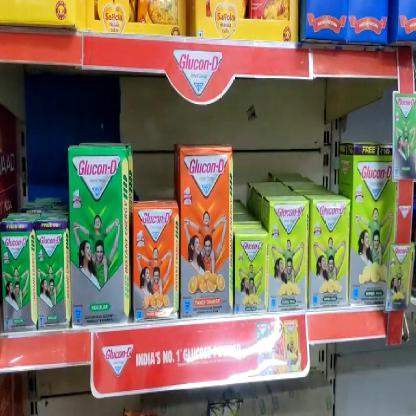Glucon D Nimbu Pani 1-KG: (350, 144, 396, 310), (270, 196, 308, 313), (310, 198, 347, 306)
Glucon D Regular 1-KG: (70, 149, 127, 323)
Glucon D Tangy orange 1-KG: (178, 148, 232, 316), (132, 208, 176, 319)
